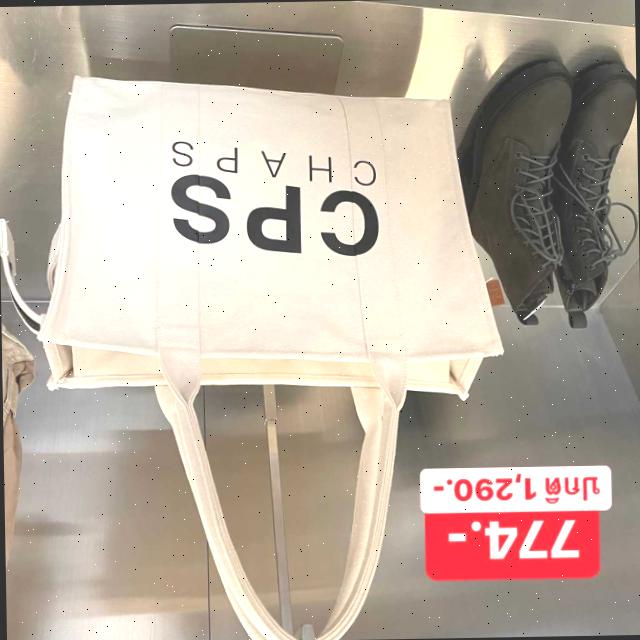handbag: (0, 47, 521, 413)
